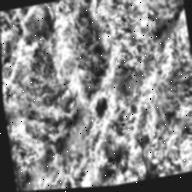boar: (91, 94, 110, 120)
